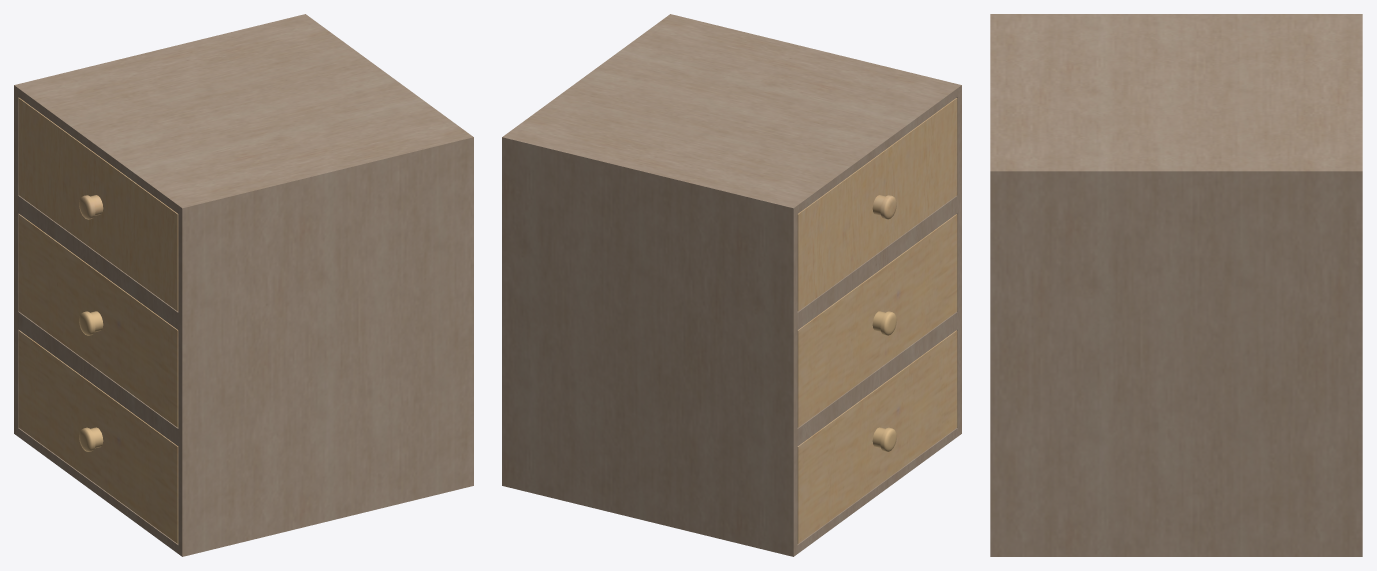
File: nightstand.fbx
3 views of the same model, side by side, from view 1: azimuth 30°, elevation 25°; view 2: azimuth 150°, elevation 25°; view 3: azimuth 270°, elevation 25° (orthographic). The views are drawn at different scales.
Parts seen in each view (by area): view 1: nightstand, latch_1, latch_2, latch_3; view 2: nightstand, latch_1, latch_2, latch_3; view 3: nightstand.
Part boxes in pixels (x1=…): nightstand: x1=14, y1=14, x2=473, y2=556; latch_1: x1=18, y1=98, x2=178, y2=311; latch_2: x1=18, y1=214, x2=178, y2=427; latch_3: x1=18, y1=330, x2=178, y2=543; nightstand: x1=502, y1=14, x2=961, y2=556; latch_1: x1=797, y1=98, x2=957, y2=311; latch_2: x1=797, y1=214, x2=957, y2=427; latch_3: x1=797, y1=330, x2=957, y2=543; nightstand: x1=990, y1=14, x2=1362, y2=556.
Bounding box in the file's own units: 73.51 × 80 × 70.
Materials: 1 (1 with a texture image).
